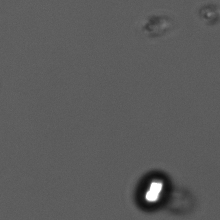Dead Cell: (142, 13, 170, 37), (171, 189, 198, 212), (200, 6, 217, 23)
Living Cell: (134, 165, 171, 211)
